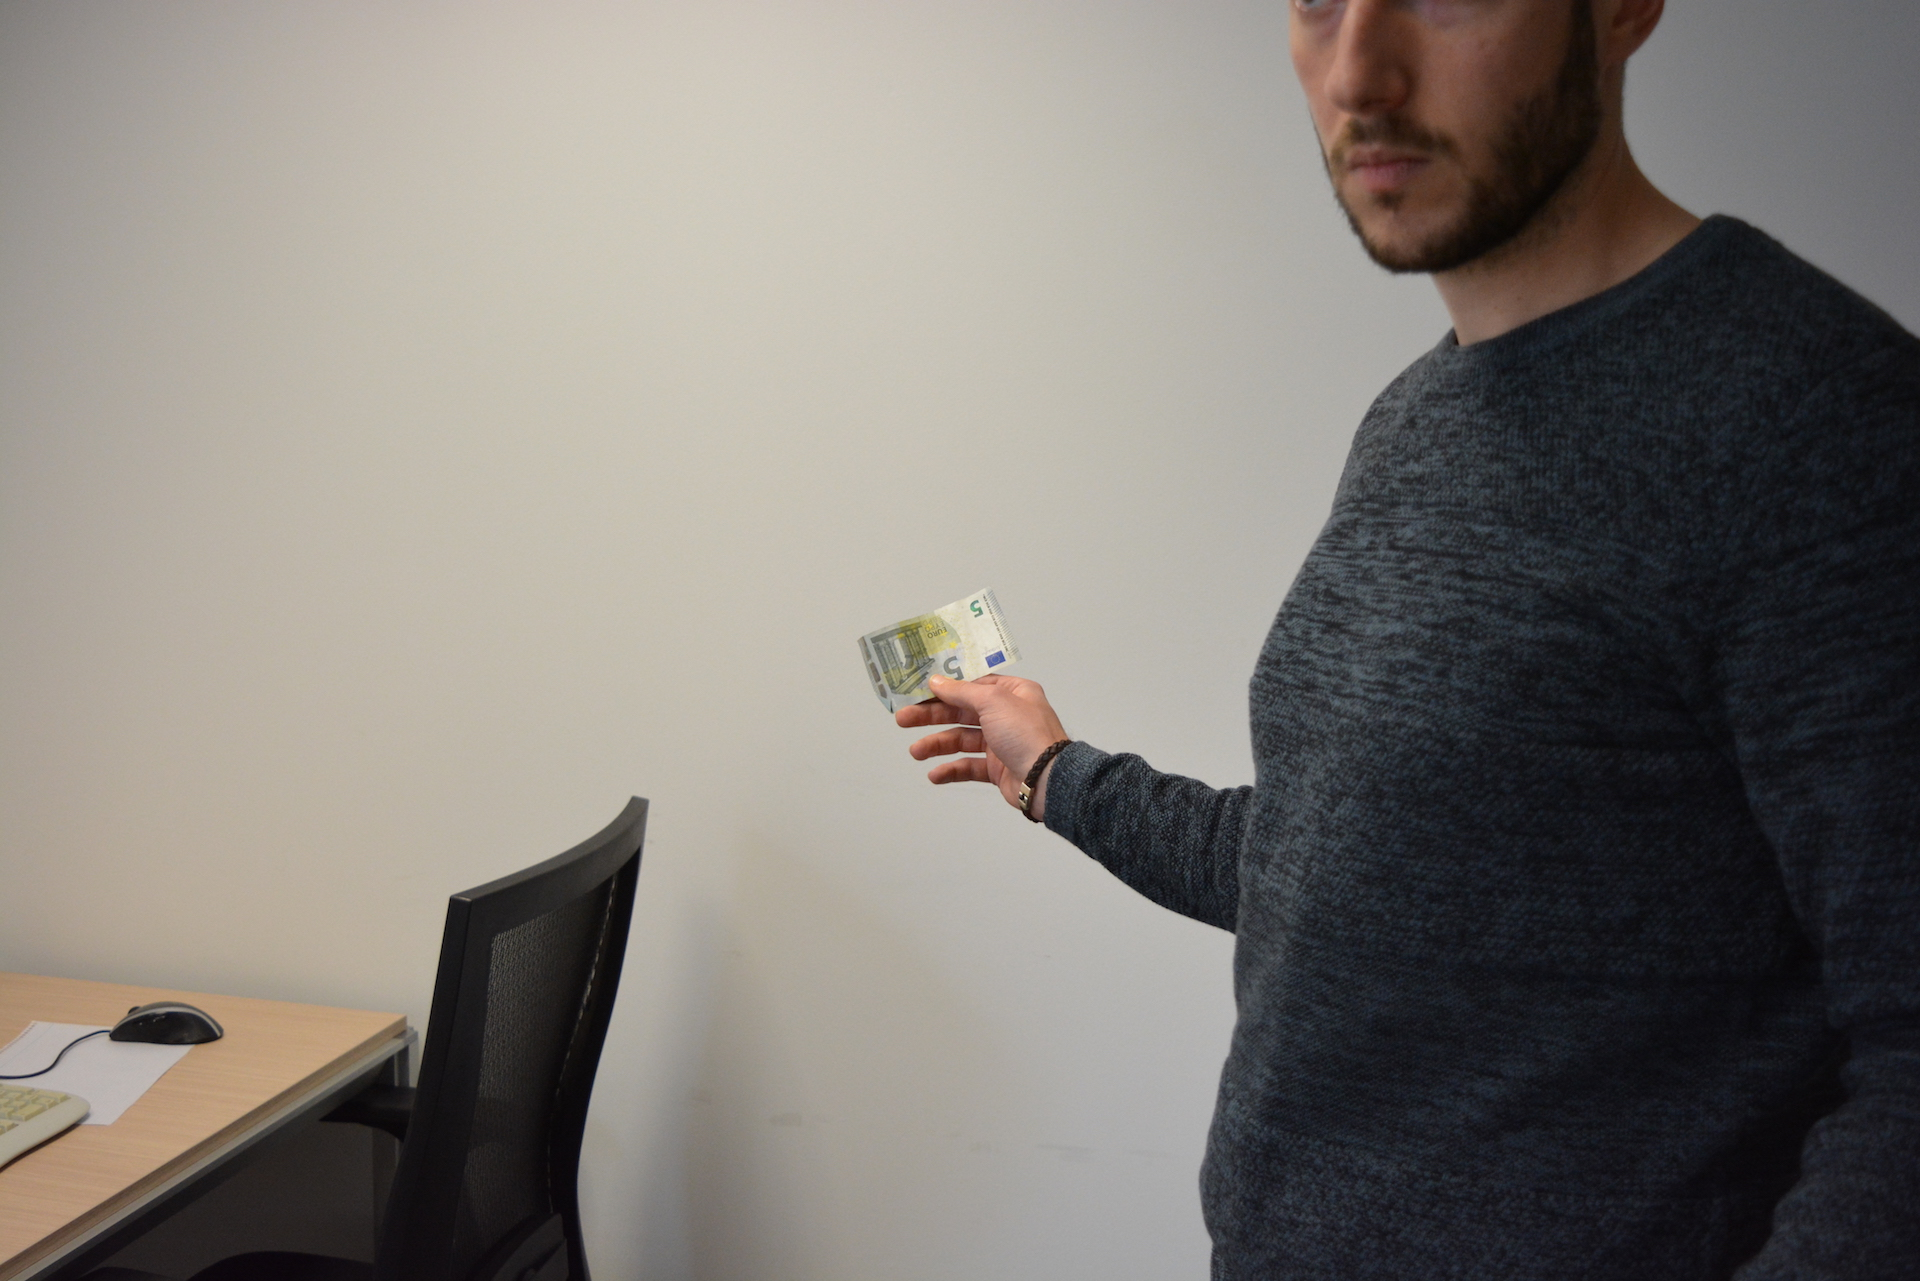billete: (856, 585, 1024, 716)
